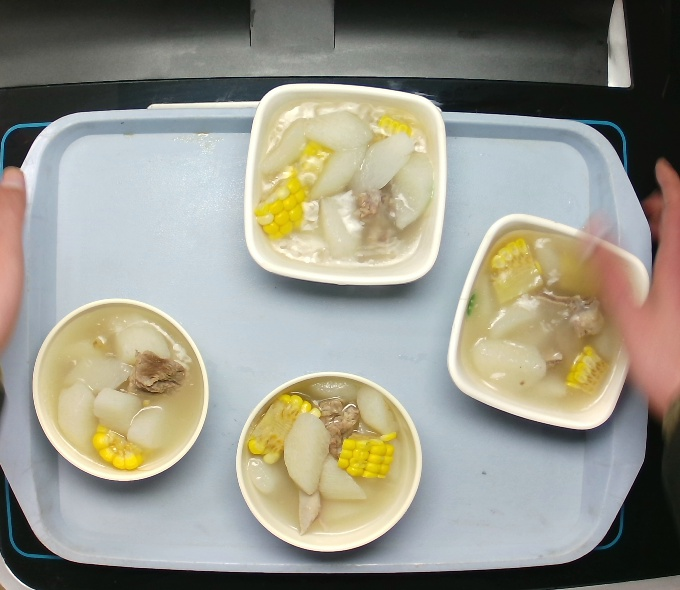wcq-ShanYaoYuMiTang: (456, 225, 637, 414), (252, 92, 441, 271), (37, 301, 205, 472), (241, 374, 416, 535)
